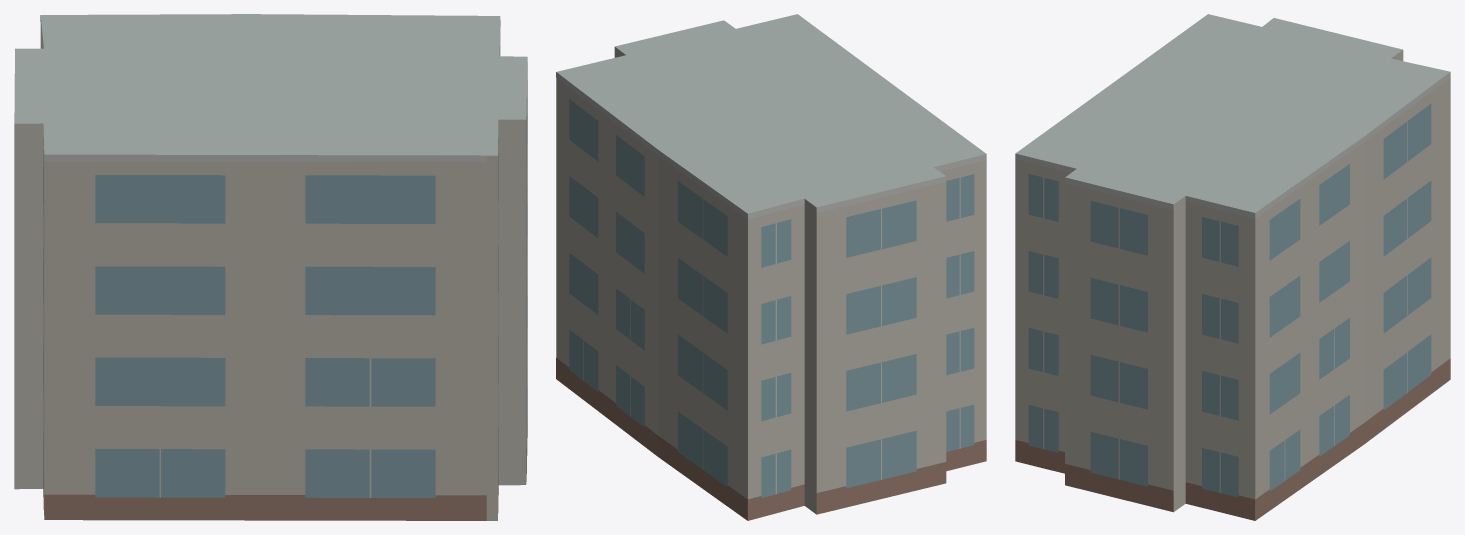
Rendered from survey-upis-33006892.glb.
The picture shows the model from 3 angles, left to right: view 1: azimuth 30°, elevation 25°; view 2: azimuth 150°, elevation 25°; view 3: azimuth 270°, elevation 25°; orthographic projection. The views are drawn at different scales.
Parts seen in each view (by area): view 1: survey-upis-33006892.tmp; view 2: survey-upis-33006892.tmp; view 3: survey-upis-33006892.tmp.
Boxes of the visible parts, x1,y1,x2,y2 form: survey-upis-33006892.tmp: [14, 14, 527, 520]; survey-upis-33006892.tmp: [556, 14, 986, 520]; survey-upis-33006892.tmp: [1015, 14, 1450, 520].
Bounding box in the file's own units: 17.76 × 12.8 × 16.4.
